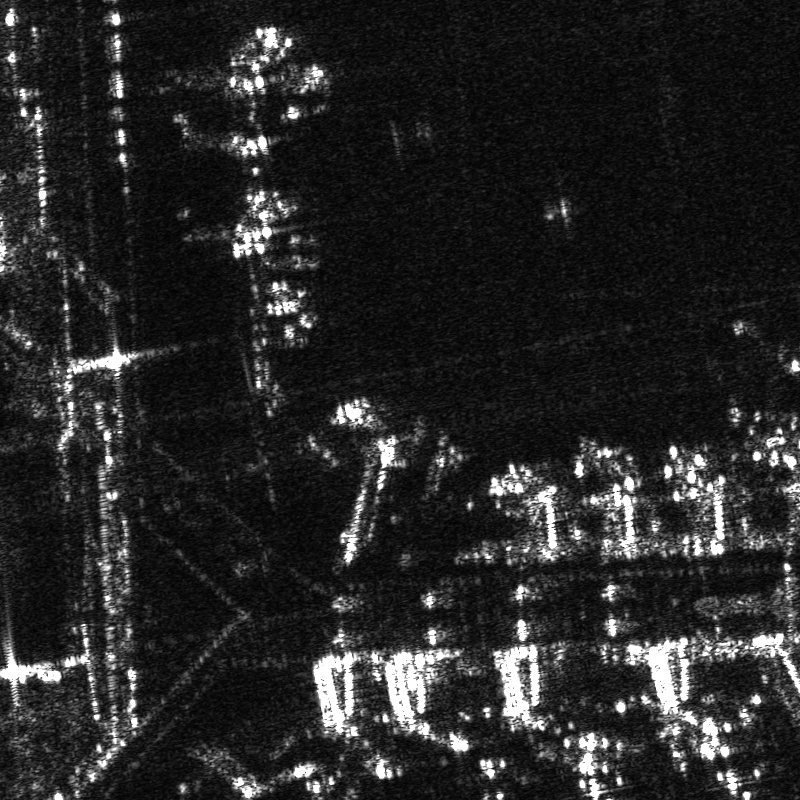A220: (452, 739, 548, 799)
Boeing787: (548, 746, 638, 799)
